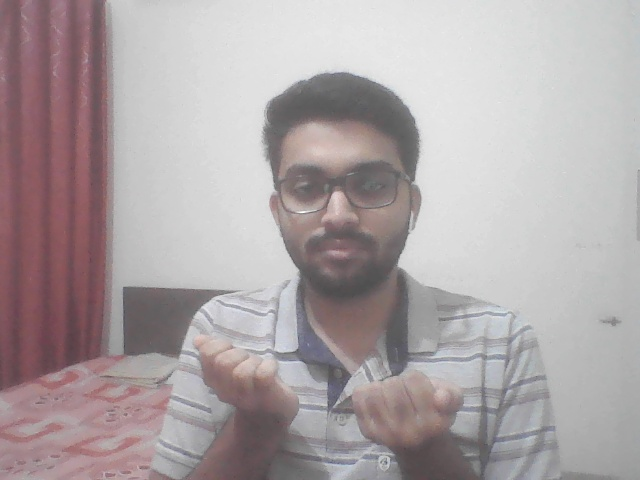want: (166, 317, 497, 462)
